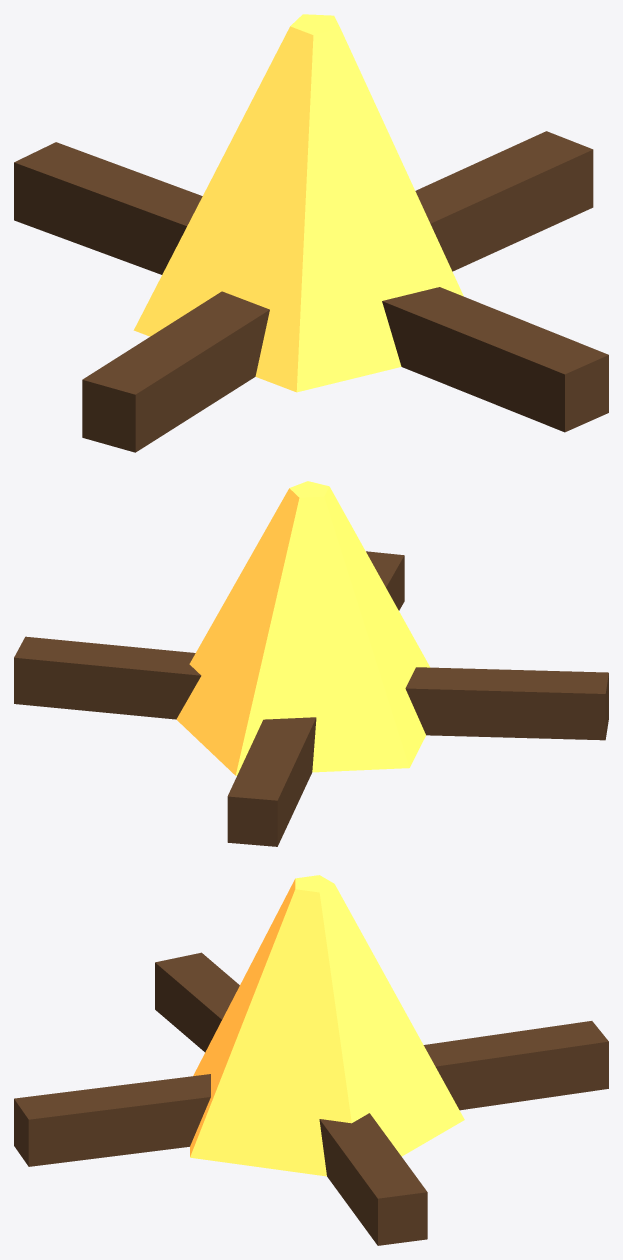
File: campfire.glb
3 views of the same model, one above another, from view 1: azimuth 30°, elevation 25°; view 2: azimuth 150°, elevation 25°; view 3: azimuth 270°, elevation 25° (orthographic). The views are drawn at different scales.
Parts seen in each view (by area): view 1: campfire; view 2: campfire; view 3: campfire.
Part boxes in pixels (x1,y1,x2,y2): campfire: (14, 14, 608, 452); campfire: (14, 481, 608, 846); campfire: (14, 875, 608, 1245).
Bounding box in the file's own units: 1.34 × 0.6 × 1.37.
